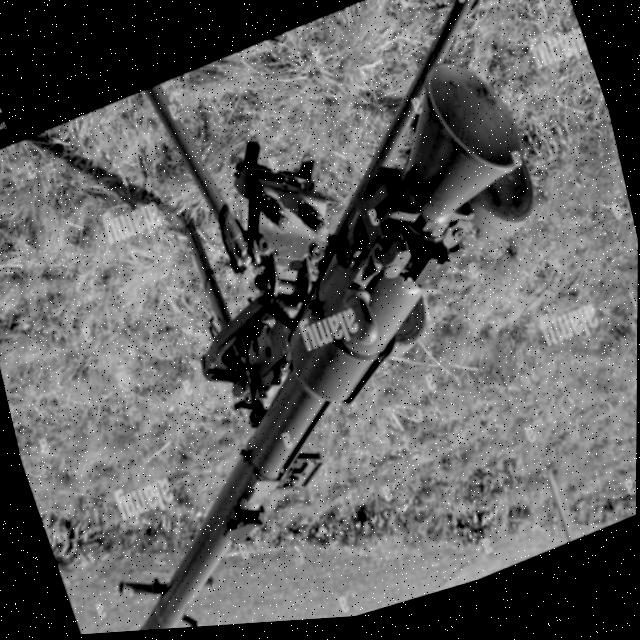rocket: (0, 28, 640, 640)
